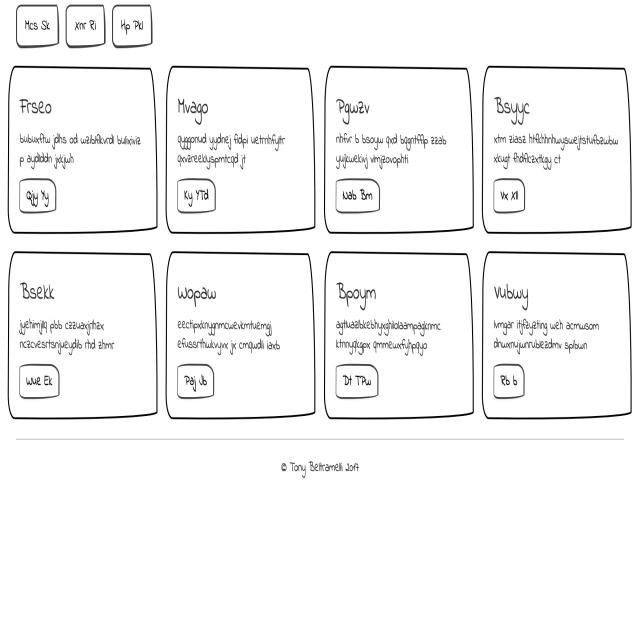Button: (334, 173, 382, 217), (172, 360, 218, 403), (336, 363, 379, 402), (19, 361, 61, 400), (492, 356, 524, 401), (18, 175, 57, 210), (173, 176, 214, 208), (491, 178, 528, 213)
Card: (8, 252, 155, 426), (326, 251, 474, 420), (9, 65, 157, 233), (484, 64, 630, 234), (329, 250, 476, 417), (169, 249, 314, 417), (322, 70, 473, 231), (486, 250, 631, 417), (171, 64, 312, 232), (169, 254, 313, 418)
Footer: (0, 438, 633, 640), (487, 255, 629, 416)
Heading 6: (173, 268, 225, 309), (14, 274, 74, 308), (337, 264, 387, 302), (494, 85, 534, 124), (16, 85, 53, 118), (176, 95, 216, 118), (332, 96, 374, 116)
Navigation Bar: (12, 7, 156, 47)
Paragraph: (489, 127, 618, 173), (11, 125, 150, 166), (329, 124, 450, 170), (173, 126, 291, 170), (16, 316, 137, 355), (489, 316, 607, 355), (333, 314, 452, 350), (176, 318, 283, 358), (491, 282, 543, 306)
